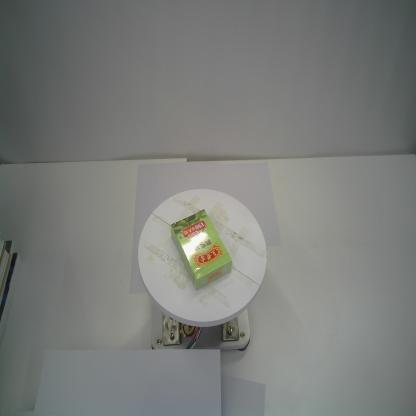Candy: (168, 208, 234, 290)
